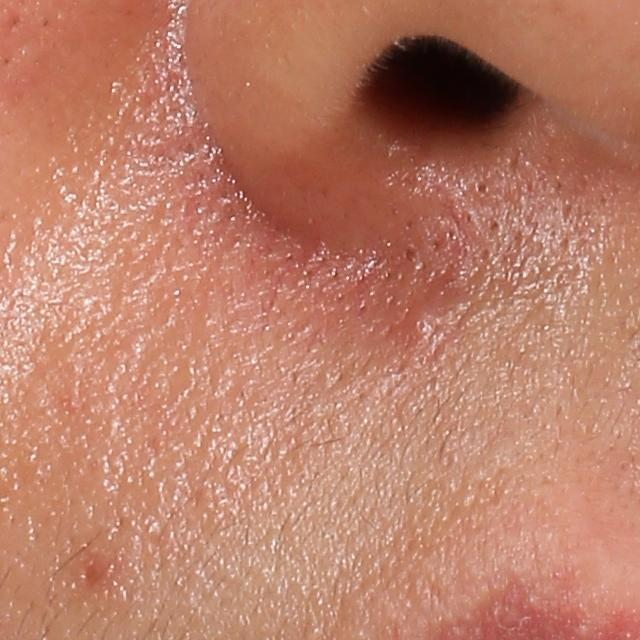comedo: (397, 239, 426, 271), (470, 174, 492, 200)
